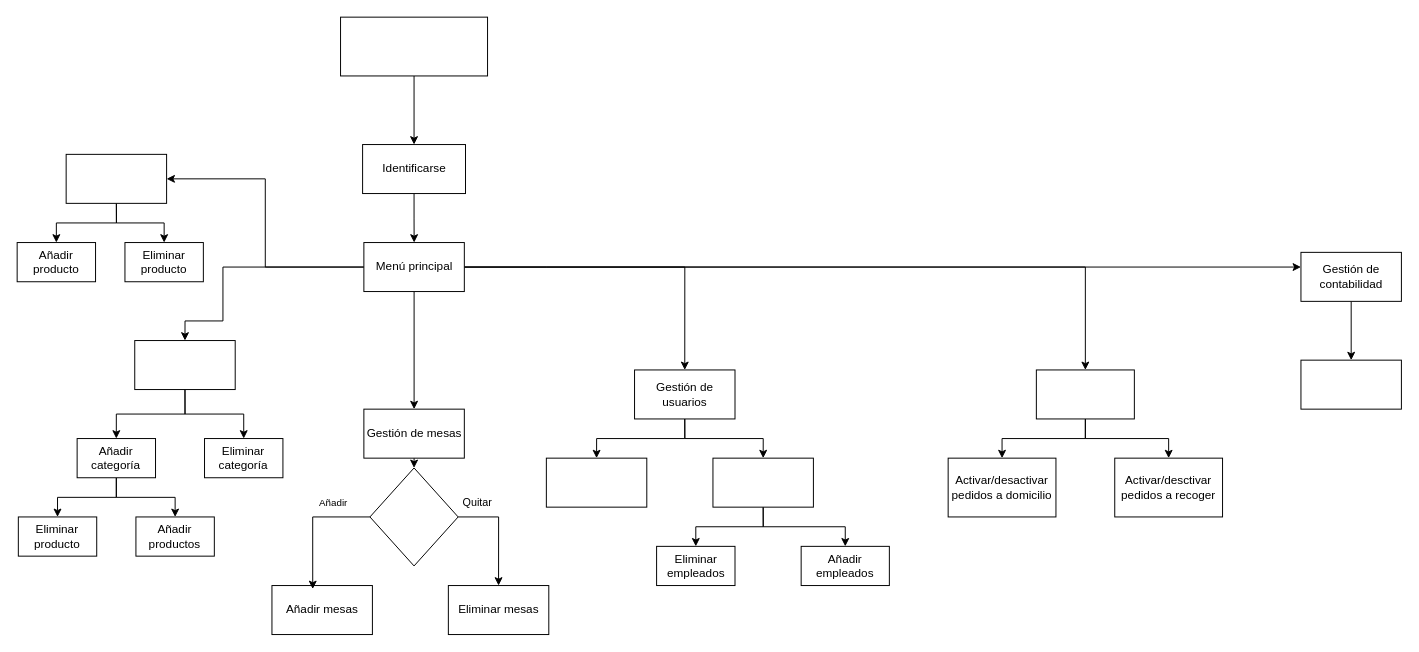
This 1419x652 diagram has some shape labels left out. Each missing label, with the centre of its shape:
"ADMINISTRADOR" belongs at [414,46].
"Añadir o quitar mesas" belongs at [413,516].
"Configuración de administrador" belongs at [1084,394].
"Gestion de menú" belongs at [184,365].
"Gestionar clientes" belongs at [596,482].
"Gestionar empleados" belongs at [762,482].
"Gestión de stock" belongs at [116,178].
"Historial de facturas" belongs at [1350,384].
